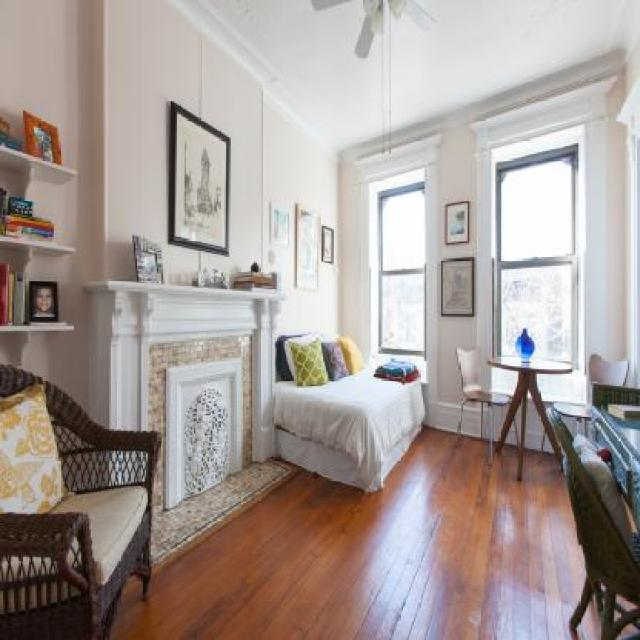floor: (111, 424, 602, 640)
